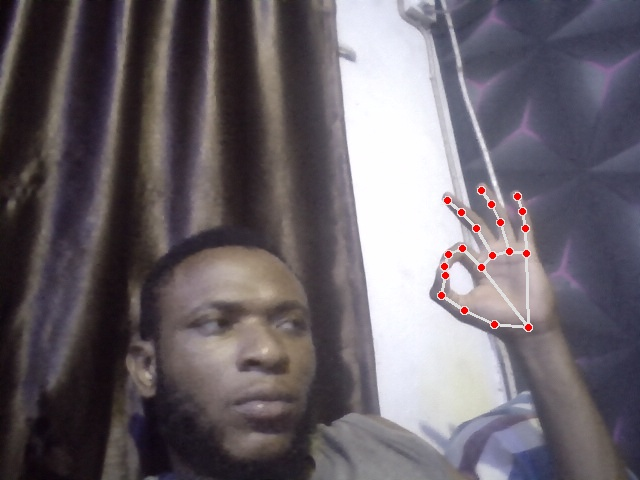okay: (430, 184, 559, 336)
